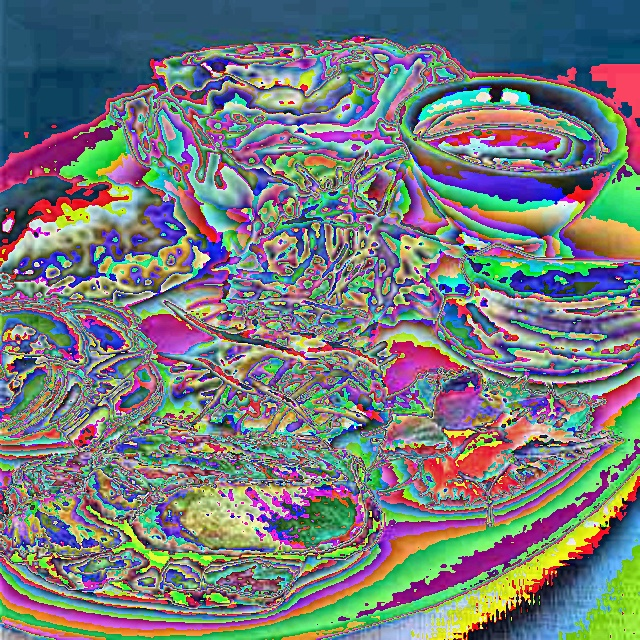background: (0, 33, 640, 610), (184, 67, 601, 171)
